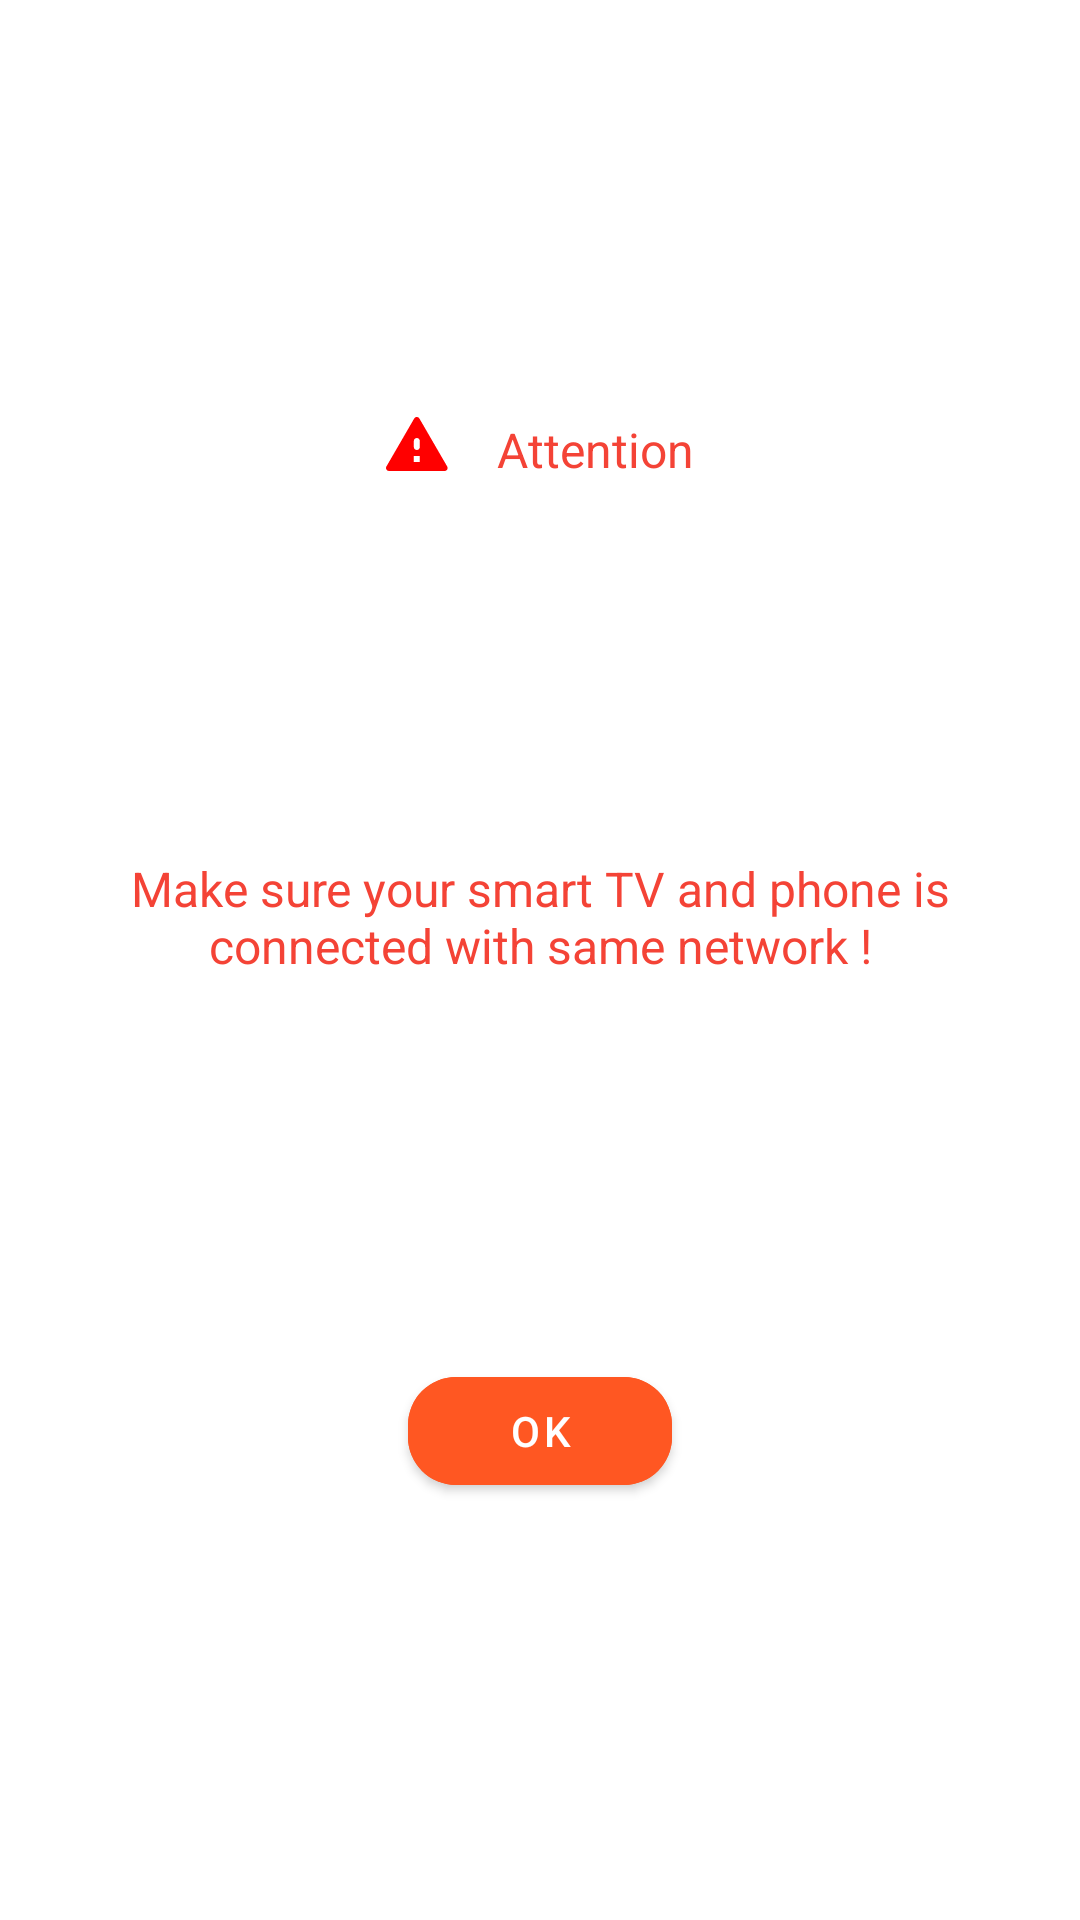

Where icons sit on this 1080px×1920px app screen, as bbox(x1, y1, x2, y2):
alert: bbox(386, 417, 448, 471)
